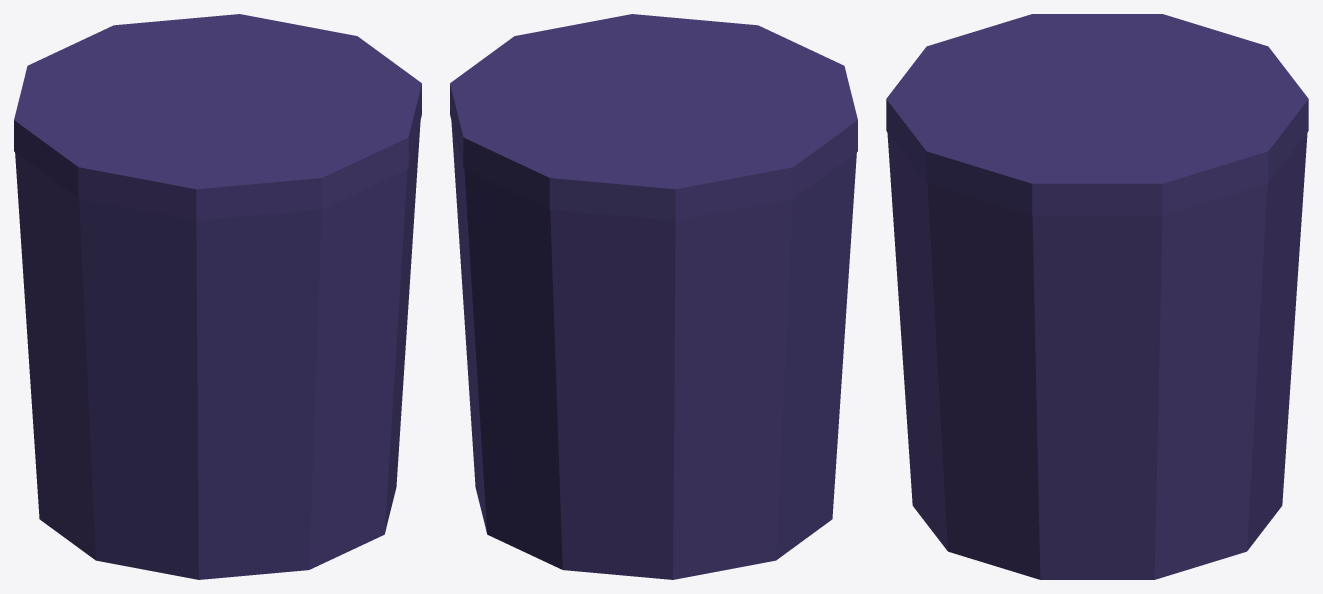
The model's file is binder.obj.
3 views of the same model, side by side, from view 1: azimuth 30°, elevation 25°; view 2: azimuth 150°, elevation 25°; view 3: azimuth 270°, elevation 25° (orthographic).
Parts seen in each view (by area): view 1: faceted-bin-body, open-bin-rim; view 2: faceted-bin-body, open-bin-rim; view 3: faceted-bin-body, open-bin-rim.
Part boxes in pixels (x1=…): faceted-bin-body: x1=15, y1=121, x2=420, y2=579; open-bin-rim: x1=14, y1=14, x2=421, y2=220; faceted-bin-body: x1=451, y1=121, x2=856, y2=579; open-bin-rim: x1=450, y1=14, x2=857, y2=220; faceted-bin-body: x1=887, y1=132, x2=1307, y2=579; open-bin-rim: x1=886, y1=14, x2=1308, y2=215.
Bounding box in the file's own units: 0.913 × 1.02 × 0.96.
